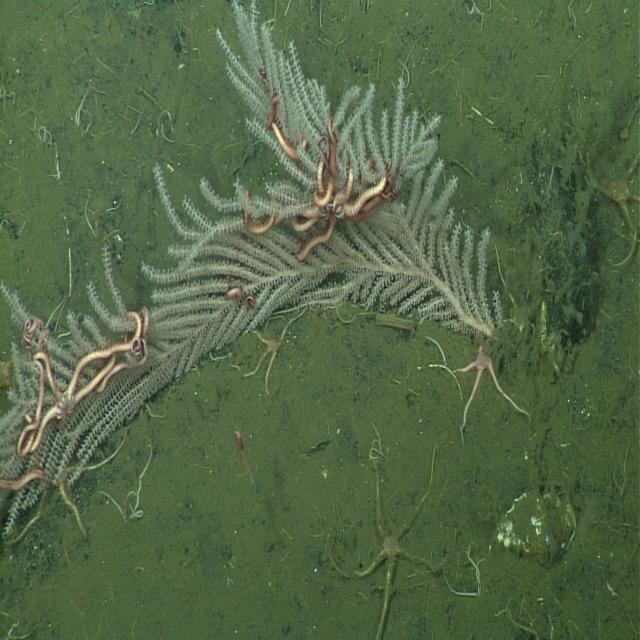Brittle Star: (333, 457, 454, 633), (422, 334, 534, 439)
Not Brittle Star: (9, 16, 514, 506)
